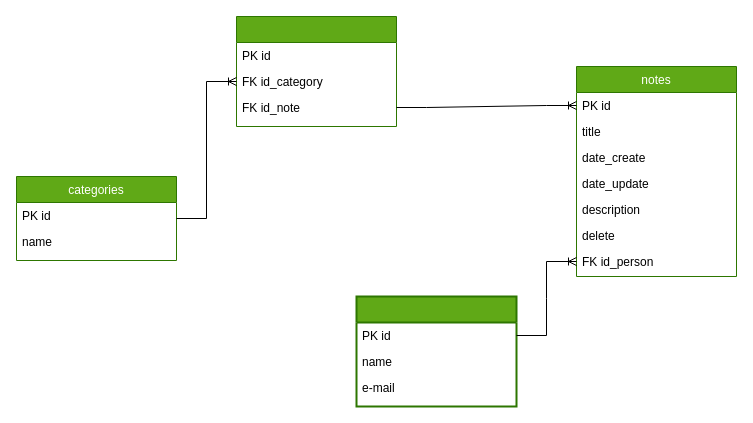
The diagram is 753 pixels wide and 423 high, and some of its shapes have lost their labels. Each missing label, with the box of its shape:
categories_notes: (236, 16, 396, 126)
Person: (355, 295, 517, 407)
